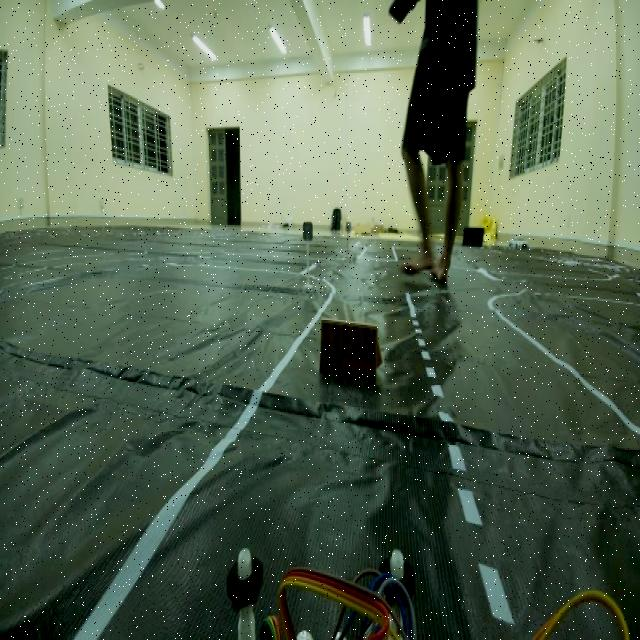roadblock: (308, 298, 394, 402)
